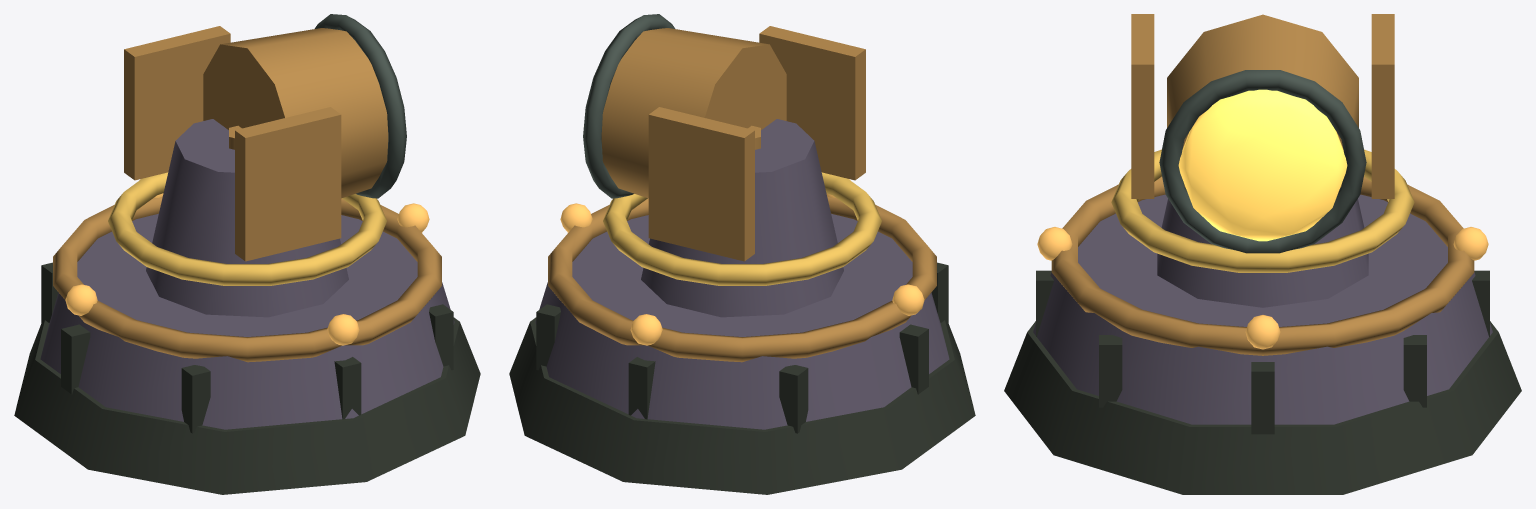
Rendered from tower_laser_laserPrism_ultimate.glb.
3 views of the same model, side by side, from view 1: azimuth 30°, elevation 25°; view 2: azimuth 150°, elevation 25°; view 3: azimuth 270°, elevation 25° (orthographic). The views are drawn at different scales.
Parts seen in each view (by area): view 1: stone_1, foot_0, lens_housing_17, column_15, cooling_fin_20, rim_2, cooling_fin_21, energized_base_22, focus_ring_18, mortar_6, mortar_7, mortar_5 (+5 smaller); view 2: stone_1, foot_0, lens_housing_17, column_15, cooling_fin_21, rim_2, cooling_fin_20, energized_base_22, focus_ring_18, mortar_8, mortar_7, mortar_9 (+5 smaller); view 3: stone_1, foot_0, lens_glass_19, rim_2, focus_ring_18, lens_housing_17, energized_base_22, column_15, cooling_fin_20, cooling_fin_21, mortar_3, mortar_4 (+6 smaller).
Part boxes in pixels (left/top/right/bottom): stone_1: left=40, top=213, right=454, bottom=429; foot_0: left=14, top=317, right=480, bottom=494; lens_housing_17: left=203, top=28, right=388, bottom=198; column_15: left=146, top=119, right=348, bottom=317; cooling_fin_20: left=235, top=107, right=341, bottom=261; rim_2: left=53, top=196, right=441, bottom=362; cooling_fin_21: left=124, top=26, right=230, bottom=180; energized_base_22: left=108, top=172, right=386, bottom=285; focus_ring_18: left=314, top=14, right=406, bottom=198; mortar_6: left=181, top=365, right=210, bottom=433; mortar_7: left=61, top=324, right=90, bottom=394; mortar_5: left=334, top=357, right=361, bottom=419; stone_1: left=535, top=213, right=949, bottom=429; foot_0: left=509, top=317, right=975, bottom=494; lens_housing_17: left=601, top=28, right=786, bottom=198; column_15: left=641, top=119, right=843, bottom=317; cooling_fin_21: left=648, top=107, right=754, bottom=261; rim_2: left=548, top=196, right=936, bottom=362; cooling_fin_20: left=759, top=26, right=865, bottom=180; energized_base_22: left=603, top=172, right=881, bottom=285; focus_ring_18: left=583, top=14, right=675, bottom=198; mortar_8: left=779, top=365, right=808, bottom=433; mortar_7: left=899, top=324, right=928, bottom=394; mortar_9: left=628, top=357, right=655, bottom=419; stone_1: left=1033, top=194, right=1492, bottom=424; foot_0: left=1004, top=321, right=1521, bottom=494; lens_glass_19: left=1178, top=89, right=1347, bottom=241; rim_2: left=1051, top=176, right=1474, bottom=355; focus_ring_18: left=1159, top=70, right=1366, bottom=253; lens_housing_17: left=1167, top=14, right=1358, bottom=188; energized_base_22: left=1111, top=149, right=1414, bottom=272; column_15: left=1157, top=199, right=1368, bottom=307; cooling_fin_20: left=1131, top=14, right=1154, bottom=198; cooling_fin_21: left=1371, top=14, right=1394, bottom=198; mortar_3: left=1251, top=362, right=1274, bottom=434; mortar_4: left=1099, top=335, right=1122, bottom=407.
Size of the model in its own units: 0.5326 by 0.4503 by 0.56.
